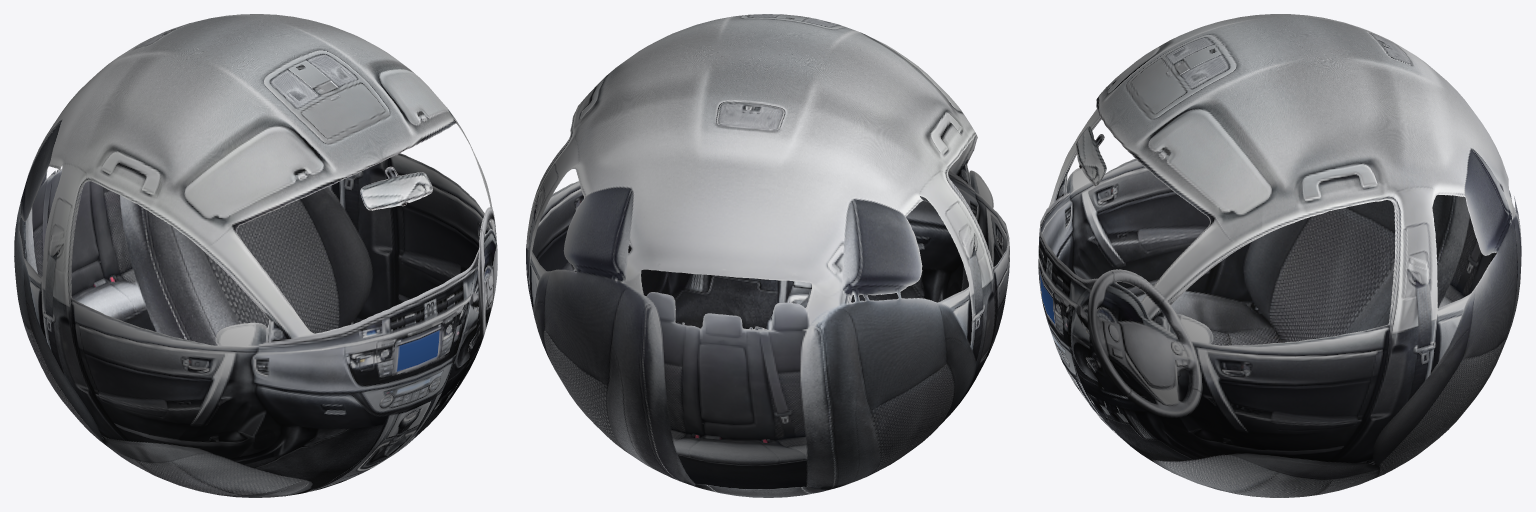
File: car.obj
3 views of the same model, side by side, from view 1: azimuth 30°, elevation 25°; view 2: azimuth 150°, elevation 25°; view 3: azimuth 270°, elevation 25° (orthographic).
Parts seen in each view (by area): view 1: pSphere2; view 2: pSphere2; view 3: pSphere2.
Part boxes in pixels (x1,y1,x2,y2): pSphere2: (14,14,497,497); pSphere2: (526,14,1009,497); pSphere2: (1038,14,1521,497).
Size of the model in its own units: 20.31 by 20.36 by 20.31.
